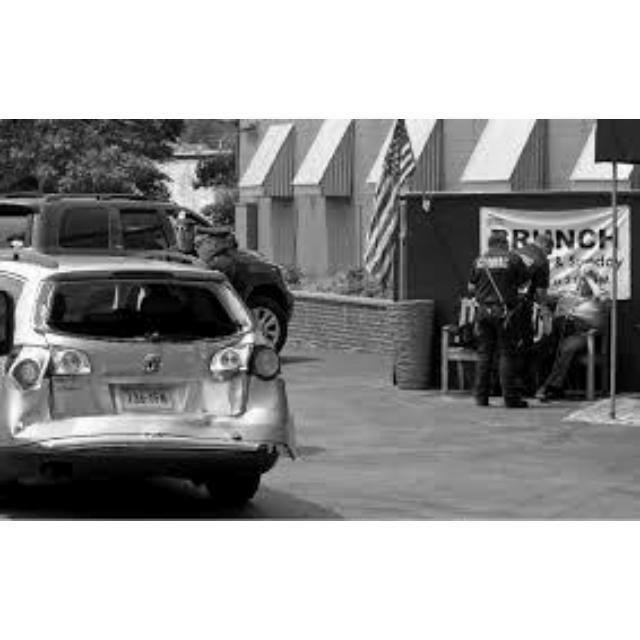Rear-windscreen-Damage: (41, 271, 226, 338)
boot-dent: (43, 336, 255, 424)
